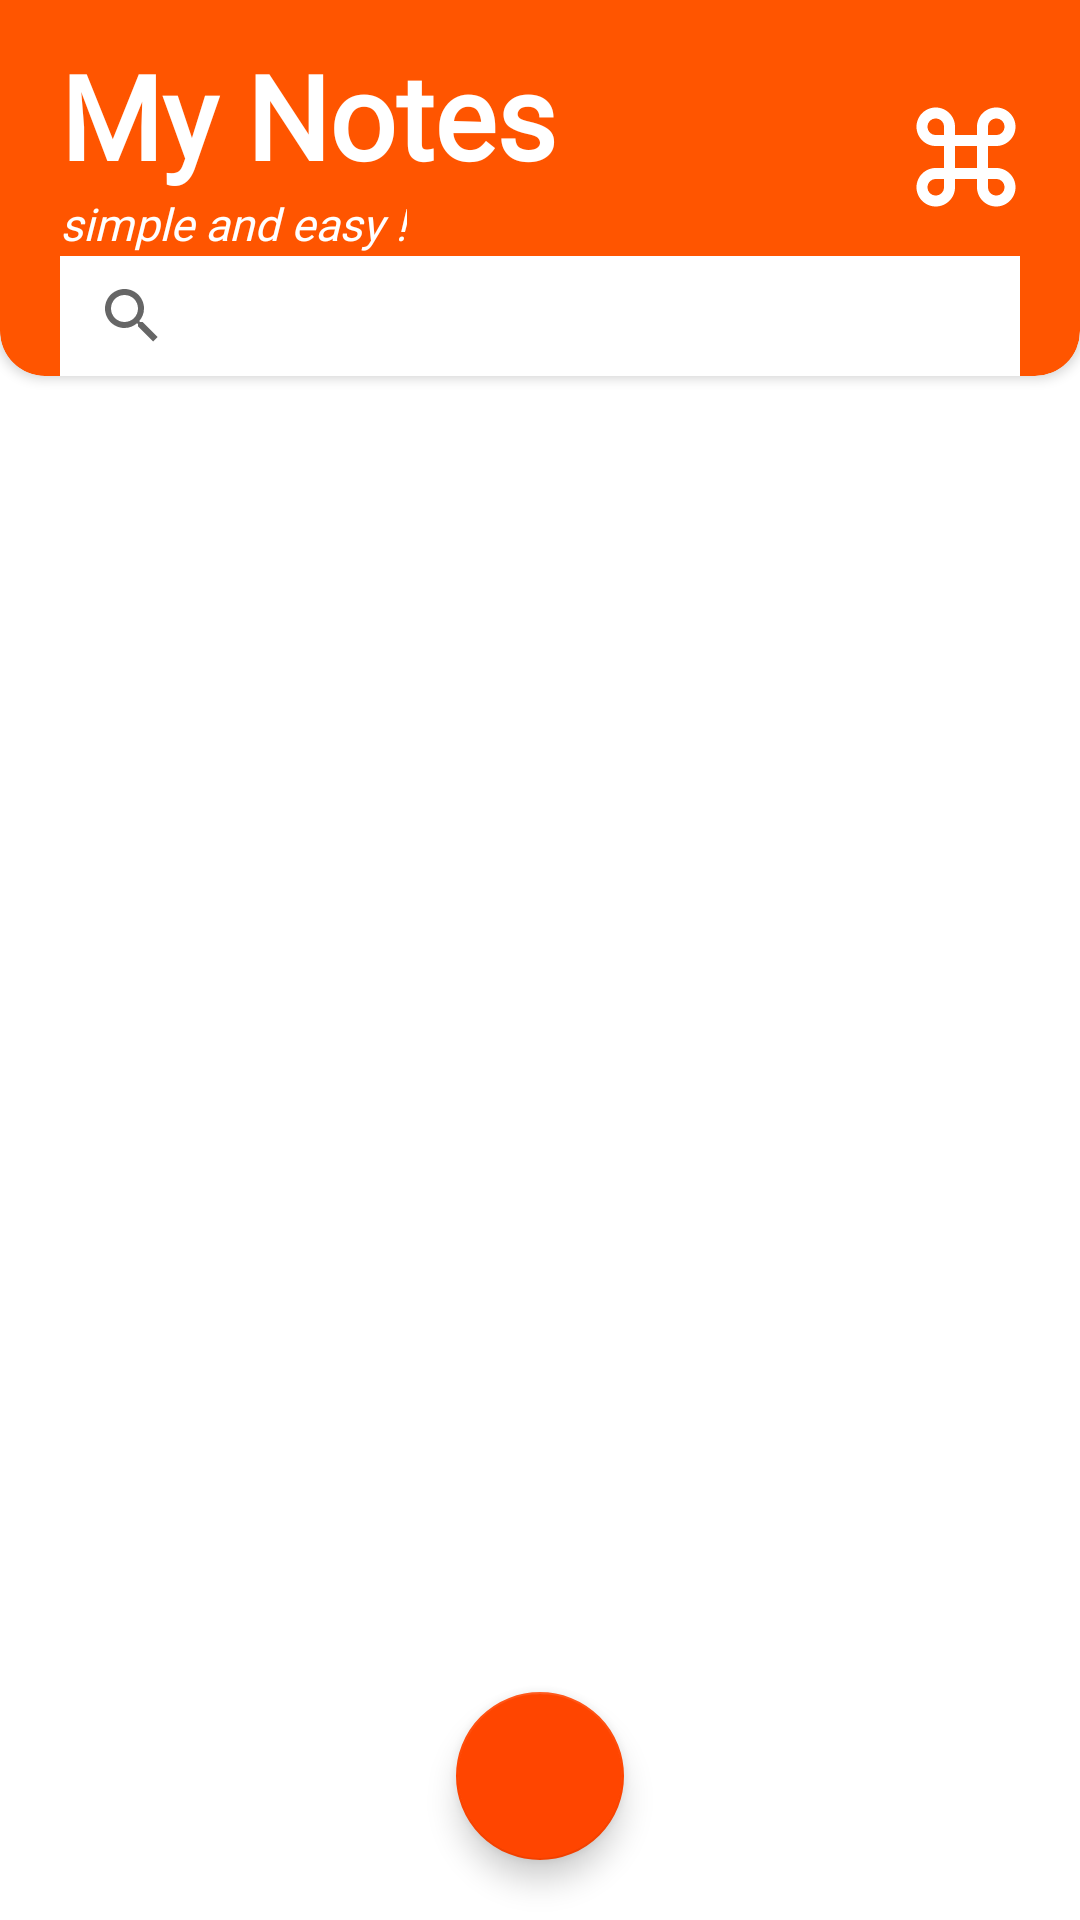

Icon click points for this 1080×1920 phone screenshot, format point (x, y):
keyboard command key: point (966, 157)
